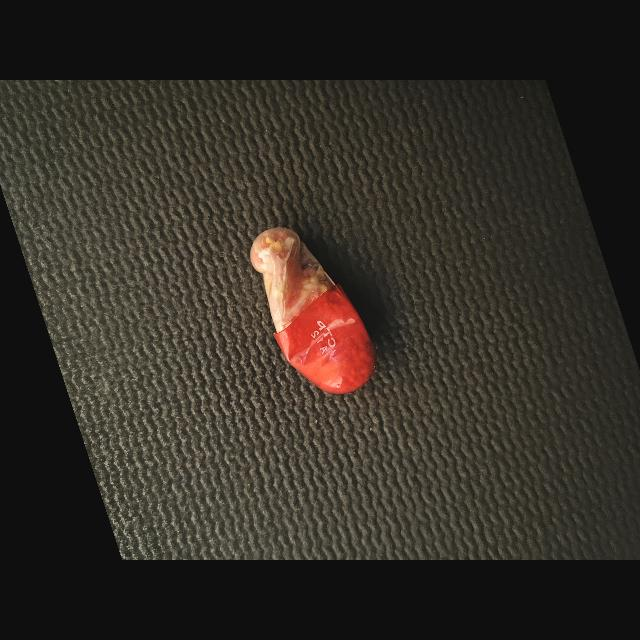Defective Capsule: (250, 228, 376, 394)
